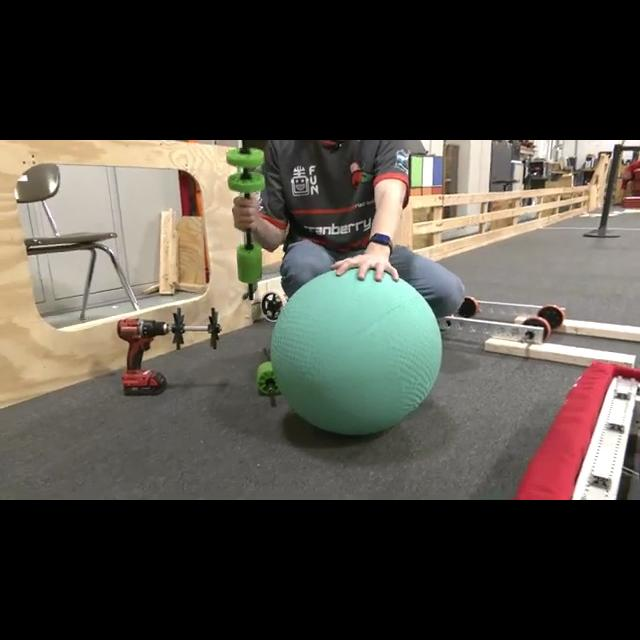ALGAE: (268, 264, 444, 436)
